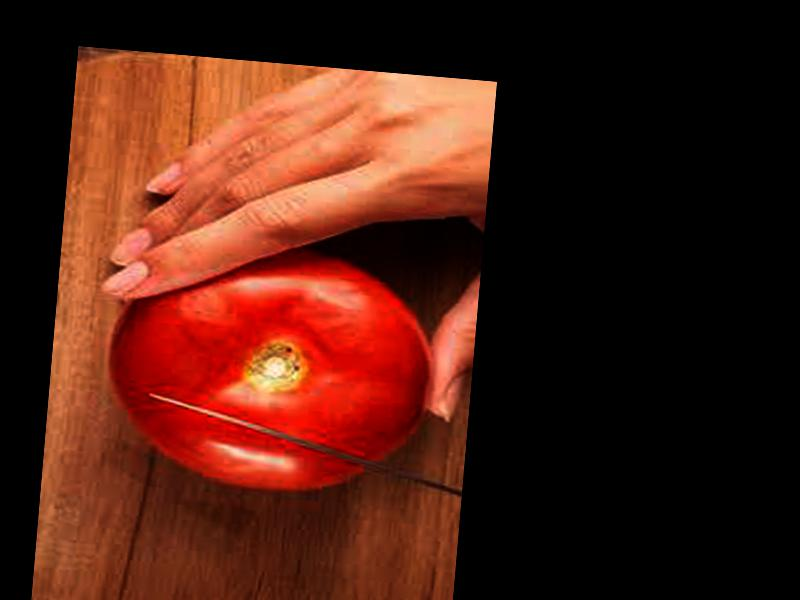Tomato: (102, 232, 437, 496)
